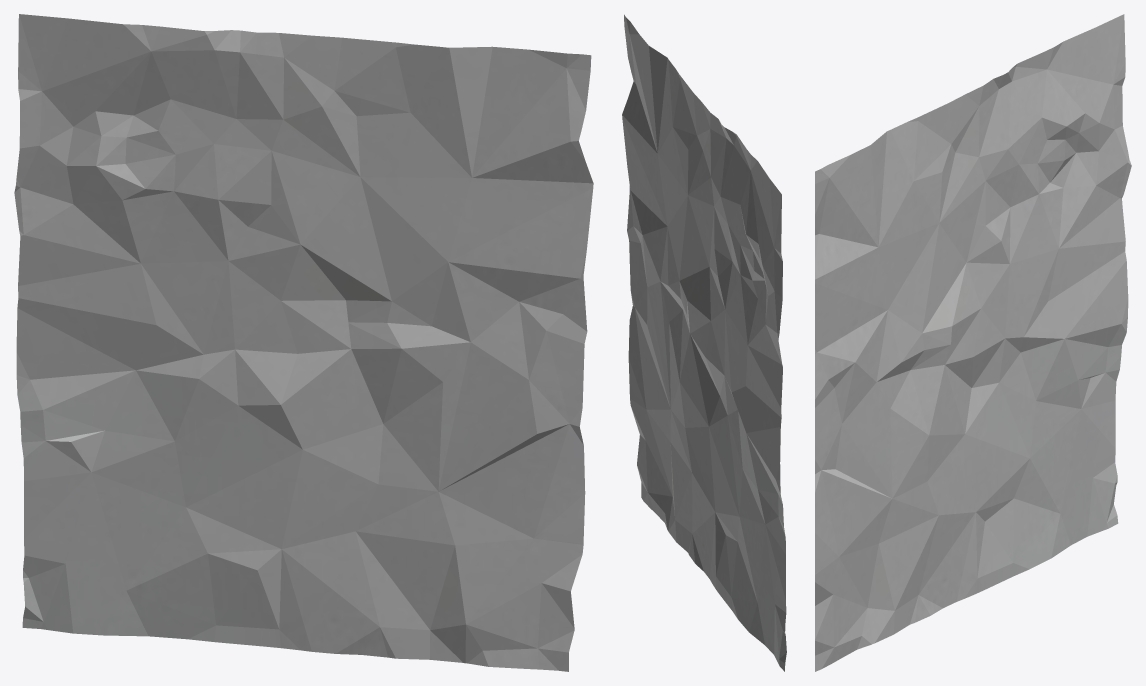
3 renders of one model, left to right at view 1: azimuth 30°, elevation 25°; view 2: azimuth 150°, elevation 25°; view 3: azimuth 270°, elevation 25°, orthographic. The views are drawn at different scales.
Bounding box in the file's own units: 0.5581 × 0.8373 × 0.4716.
Materials: 2 (2 with a texture image).
